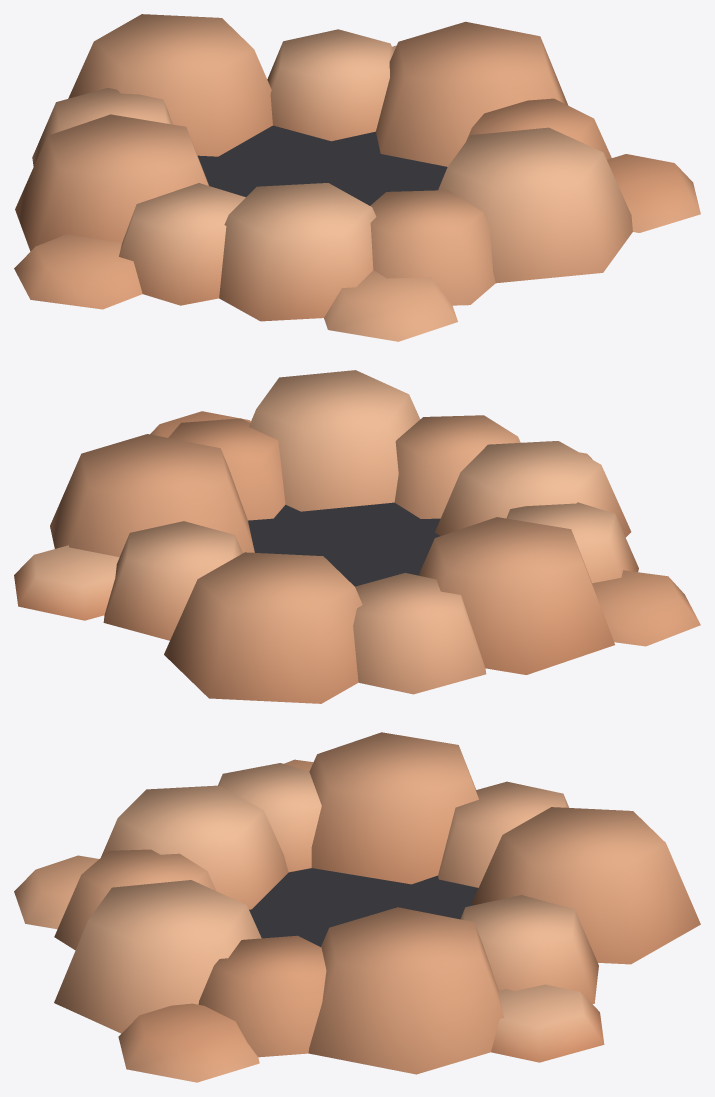
File: pk_hole.glb
The picture shows the model from 3 angles, top to bottom: view 1: azimuth 30°, elevation 25°; view 2: azimuth 150°, elevation 25°; view 3: azimuth 270°, elevation 25°; orthographic projection. The views are drawn at different scales.
Visible parts, largest first — view 1: hole; view 2: hole; view 3: hole.
Part boxes in pixels (x1,y1,x2,y2): hole: (14, 14, 700, 341); hole: (14, 370, 700, 703); hole: (14, 732, 700, 1082).
Size of the model in its own units: 2.86 by 0.354 by 2.7.
Materials: 1 (1 with a texture image).
